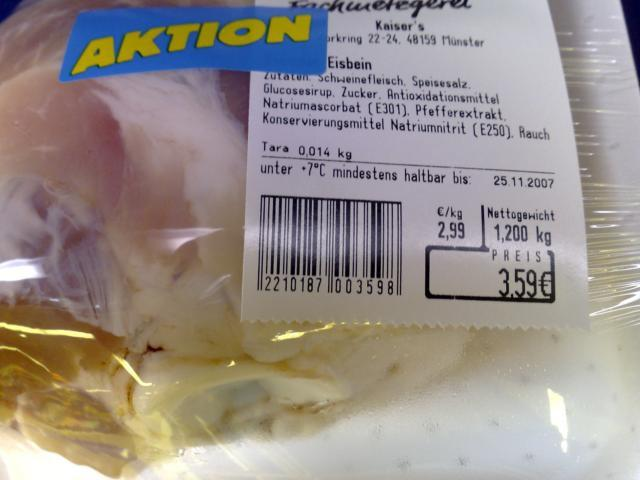Barcode: (248, 186, 419, 310)
